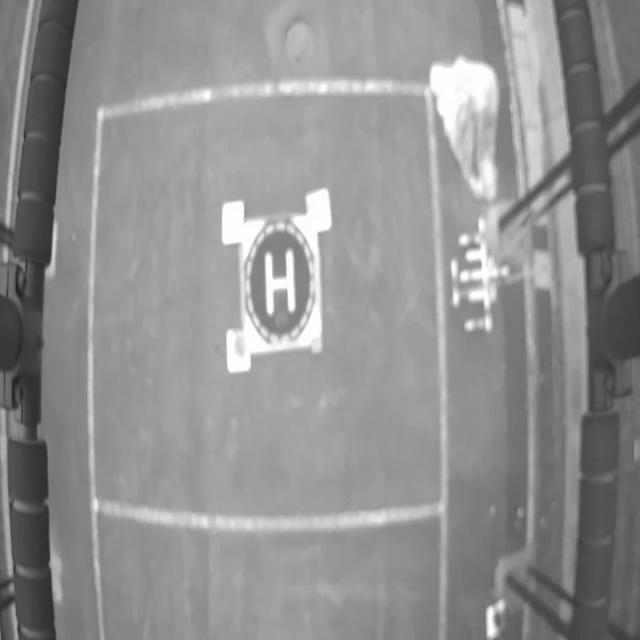Helipad: (264, 251, 296, 316)
